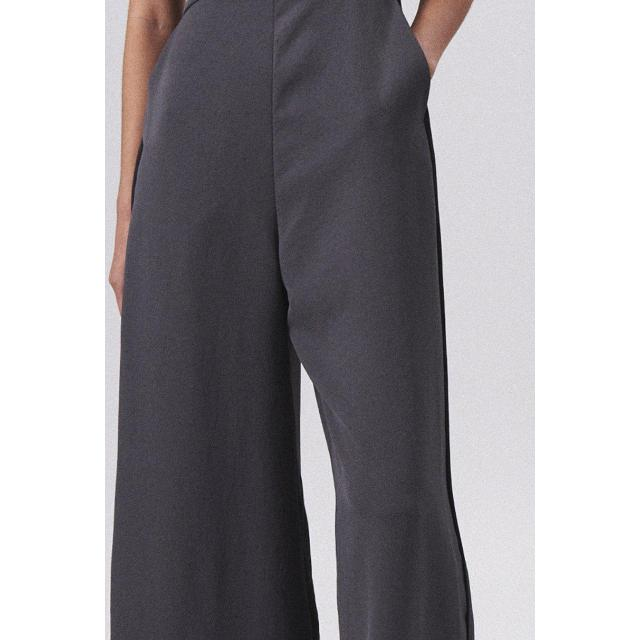polyester: (108, 0, 468, 640)
